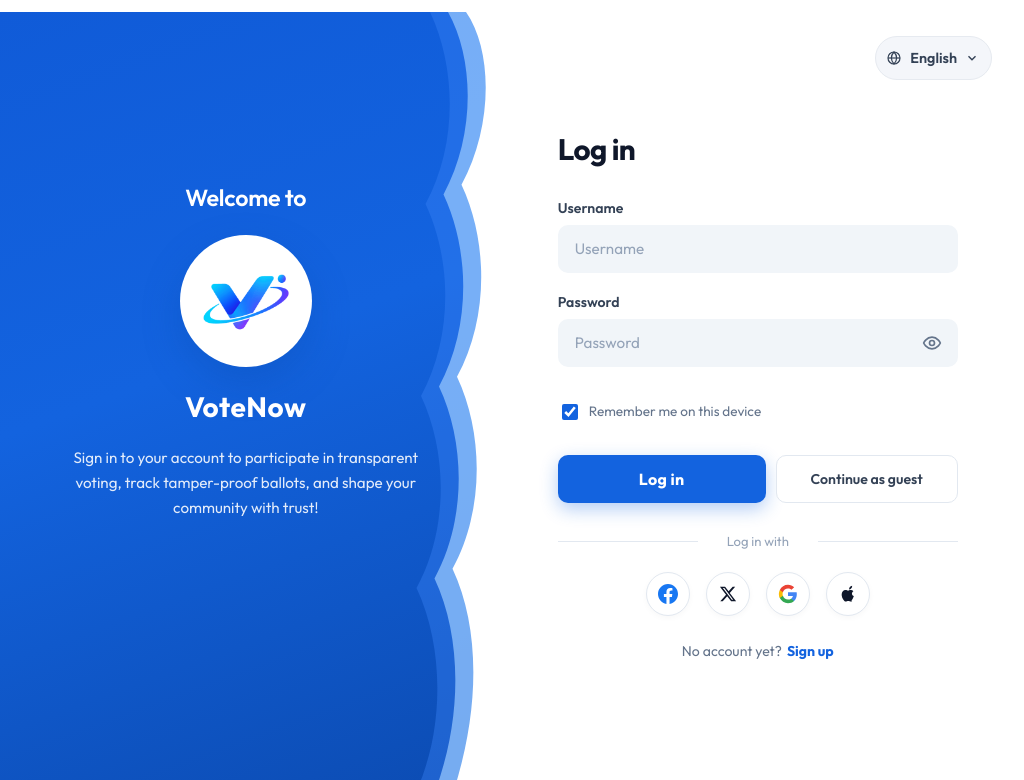
Password Visibility Toggle › LoginPage 支持通过眼睛按钮切换密码的显示与隐藏
This screenshot has width=1024, height=780.
# Click to show password
Click the button titled "Show password".
click(932, 343)  # box [914,321,950,365]
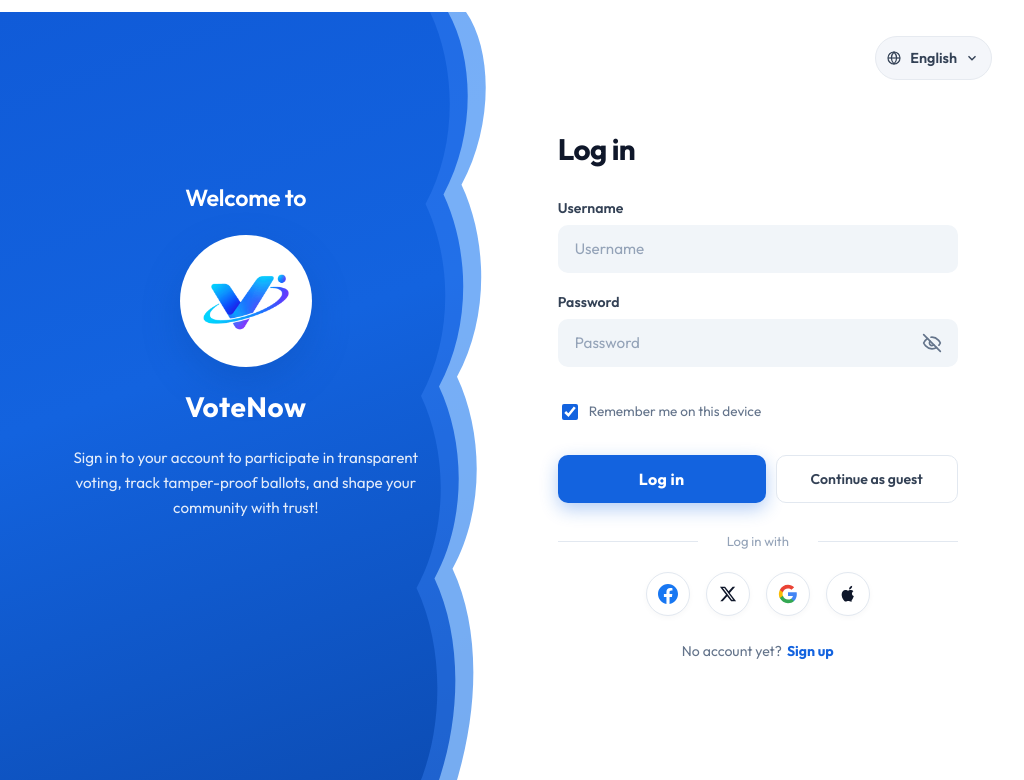
Expected: the button titled "Hide password" is shown
# Click to hide password again
Click the button titled "Hide password".
click(932, 343)  # box [914,321,950,365]
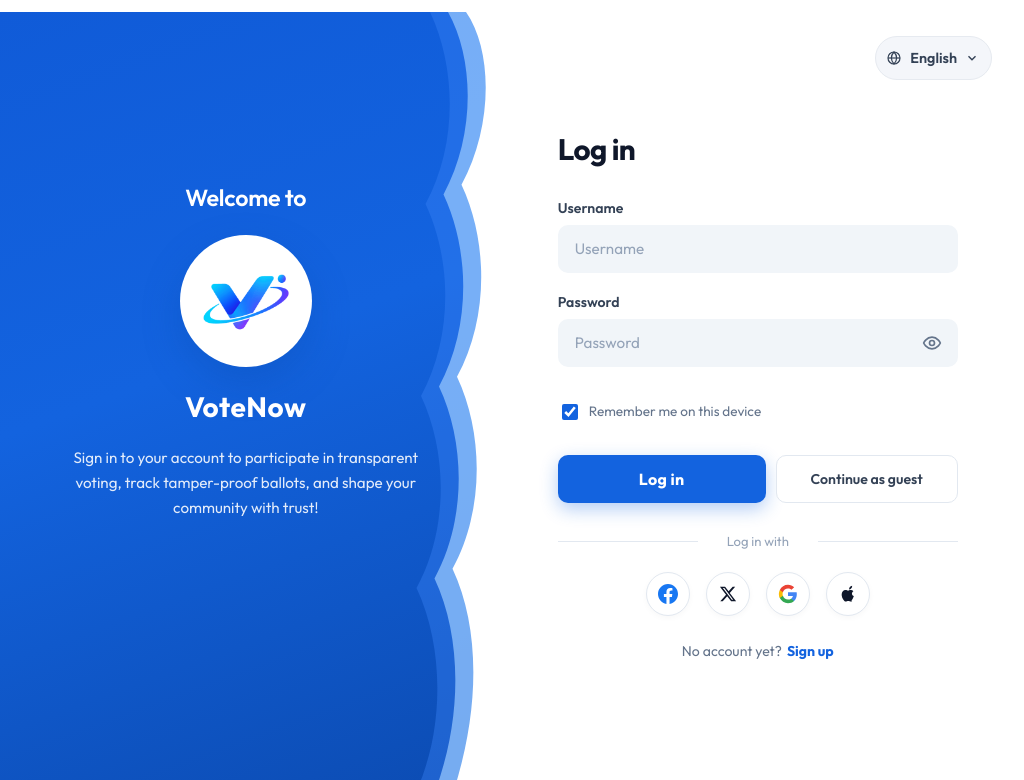
Expected: the button titled "Show password" is shown, [914,321,950,365]
